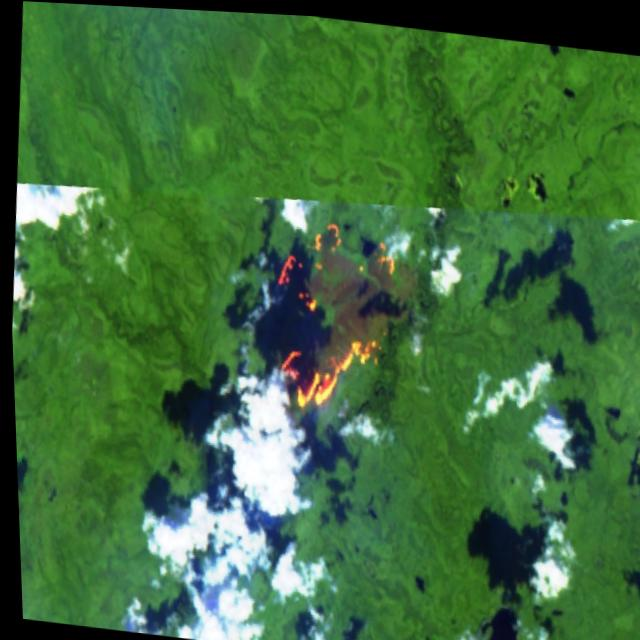fire: (254, 195, 404, 431)
